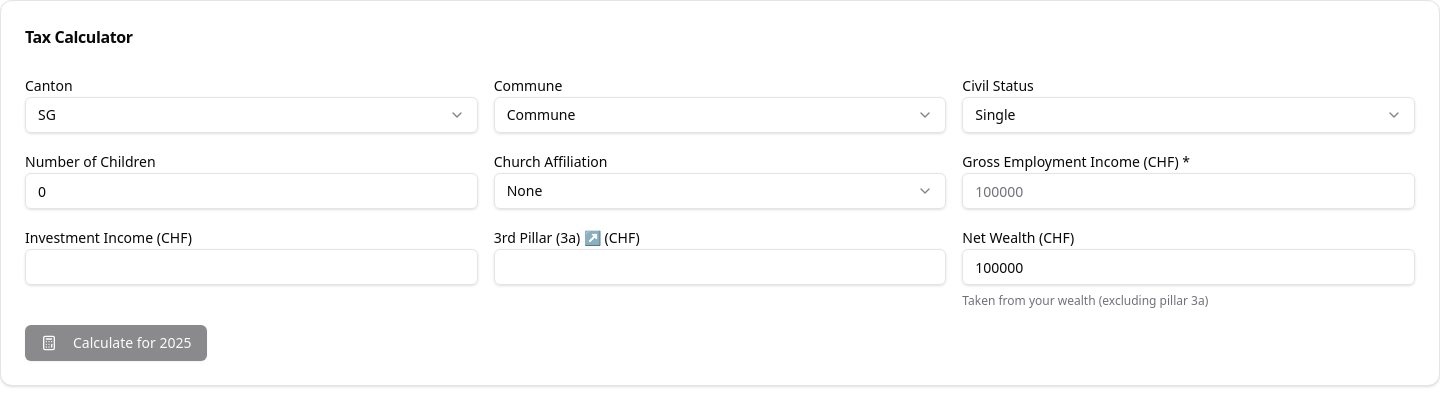
it: CalculatorCard › drops the wealth prefill once the field is edited
Clear the number field showing "100000" below "Net Wealth": (1189, 267) [962, 249, 1415, 285]
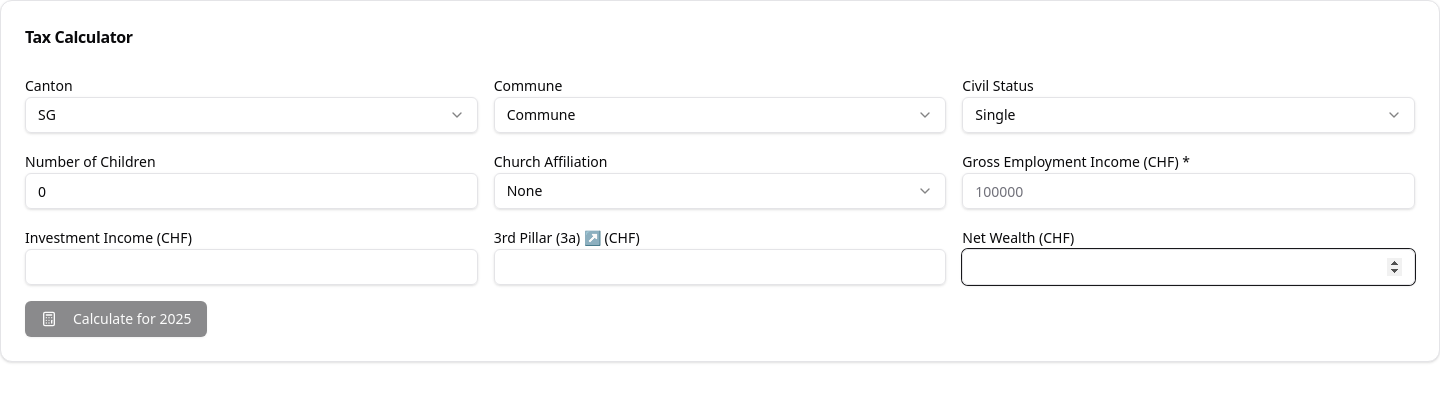
Now the text "Taken from your wealth (excluding pillar 3a)" is gone
